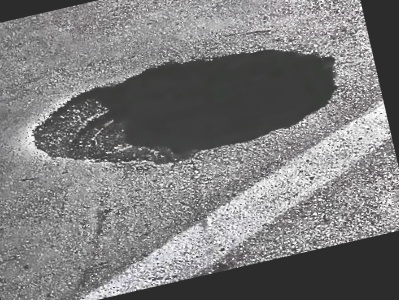pothole: (13, 20, 353, 197)
